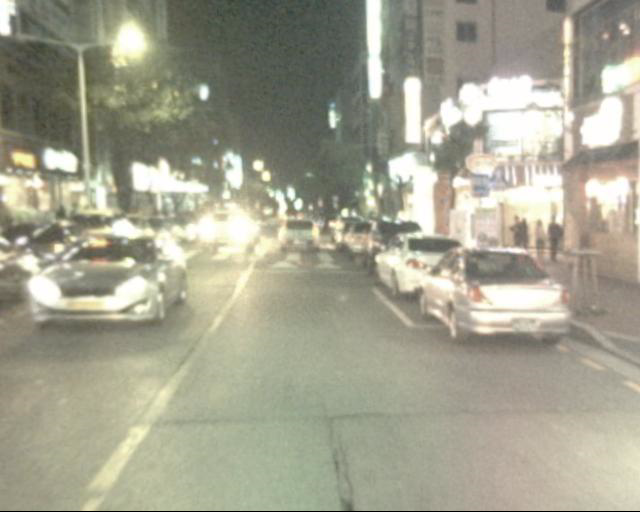person: (540, 208, 568, 274), (526, 210, 553, 272), (506, 211, 534, 270)
